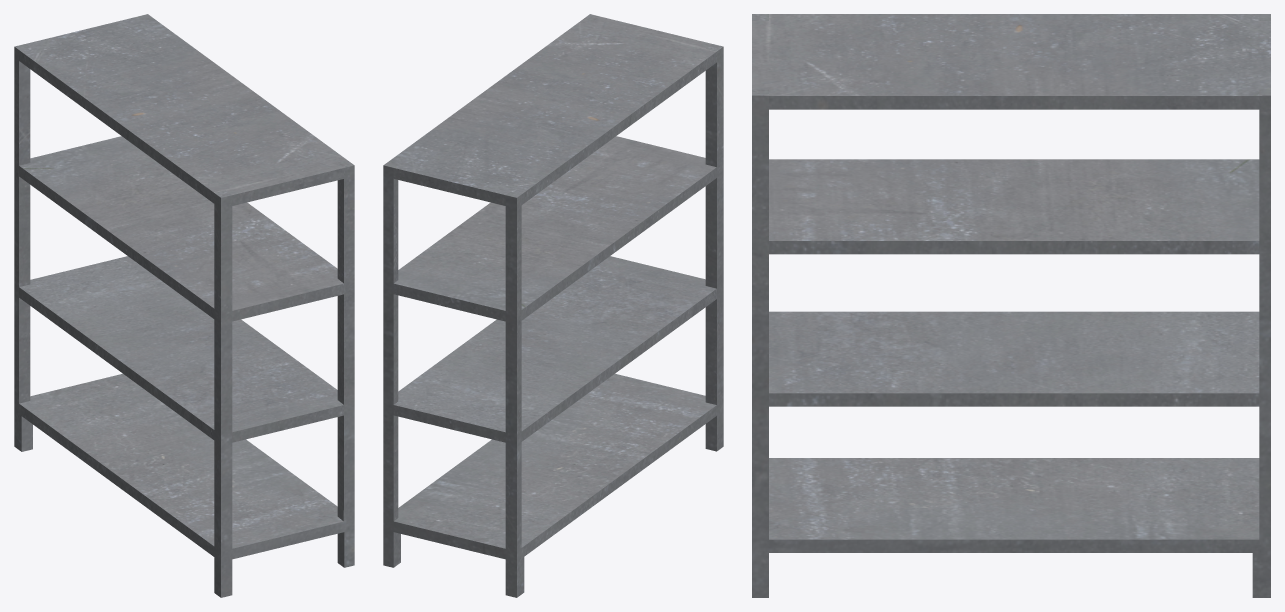
File: shelf_K.fbx
The picture shows the model from 3 angles, left to right: view 1: azimuth 30°, elevation 25°; view 2: azimuth 150°, elevation 25°; view 3: azimuth 270°, elevation 25°; orthographic projection. The views are drawn at different scales.
Parts seen in each view (by area): view 1: pCube5; view 2: pCube5; view 3: pCube5.
Part boxes in pixels (bbox=[...]): pCube5: bbox=[14, 14, 354, 597]; pCube5: bbox=[383, 14, 723, 597]; pCube5: bbox=[752, 14, 1270, 597].
Size of the model in its own units: 1.46 by 4.18 by 3.92.
1 material, 1 textured.
